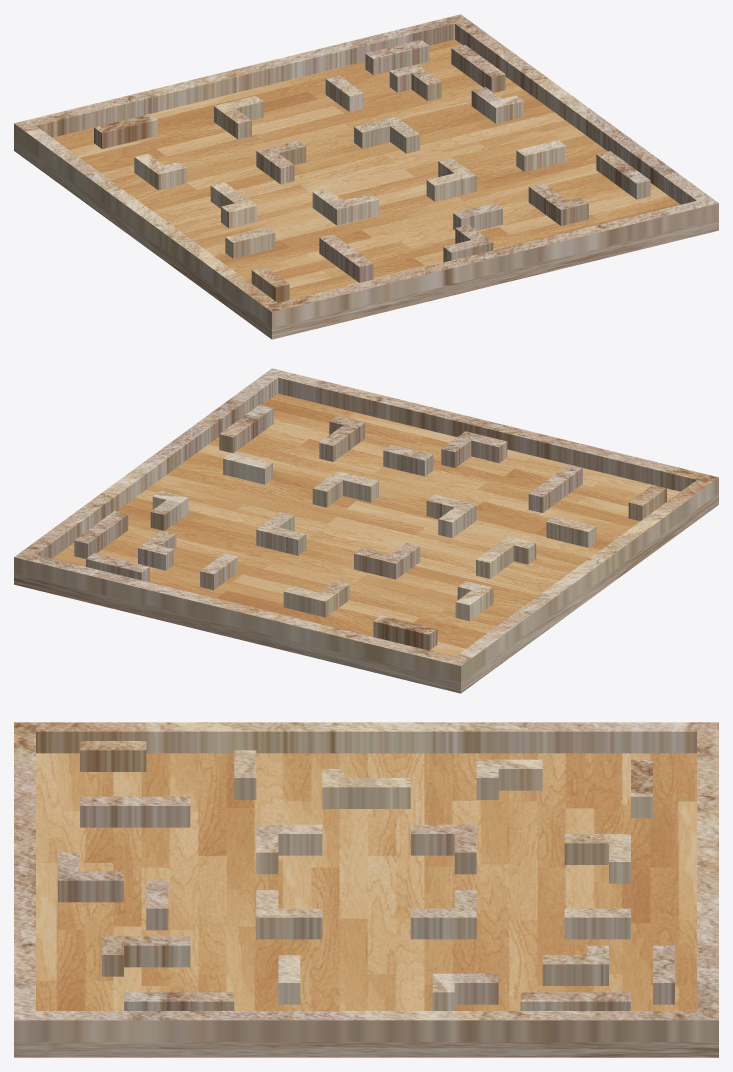
Rendered from Battleground.glb.
3 views of the same model, one above another, from view 1: azimuth 30°, elevation 25°; view 2: azimuth 150°, elevation 25°; view 3: azimuth 270°, elevation 25° (orthographic). The views are drawn at different scales.
Parts seen in each view (by area): view 1: Cube; view 2: Cube; view 3: Cube.
Part boxes in pixels (box(x1,y1,x2,y2)): Cube: box(14, 14, 718, 339); Cube: box(14, 368, 718, 693); Cube: box(14, 722, 718, 1057).
Bounding box in the file's own units: 20.64 × 1.21 × 20.64.
Materials: 2 (2 with a texture image).
